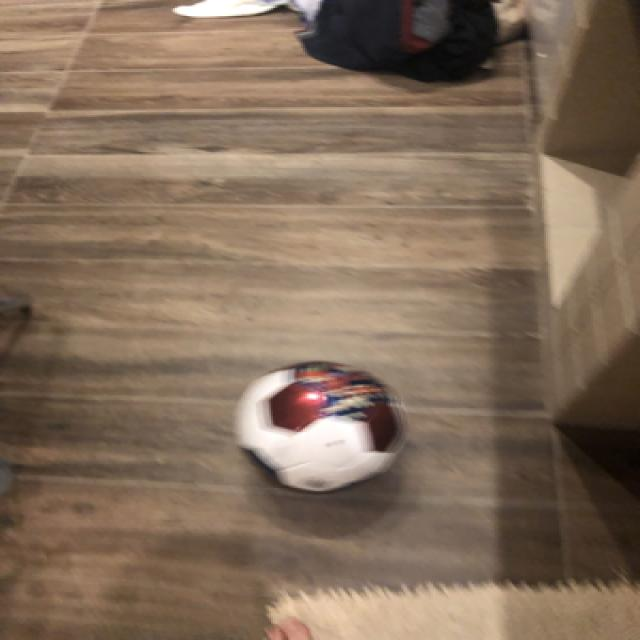soccer_ball: (230, 360, 406, 493)
